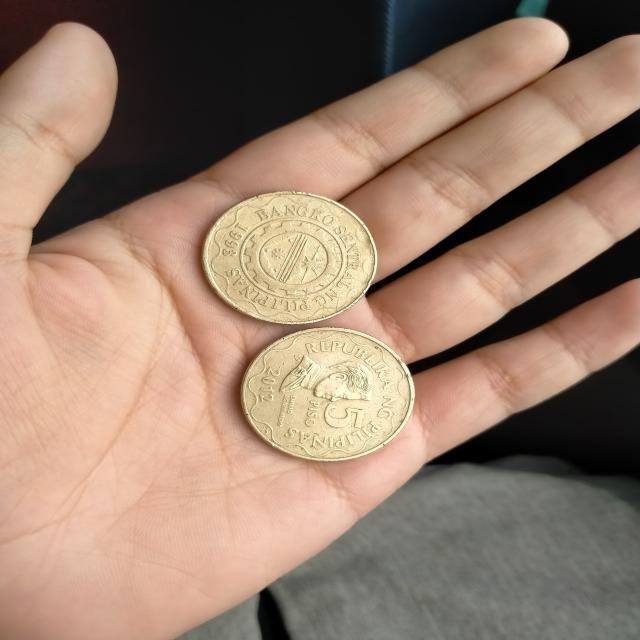5_Old_Back: (200, 186, 370, 328)
5_Old_Front: (289, 394, 373, 436)
